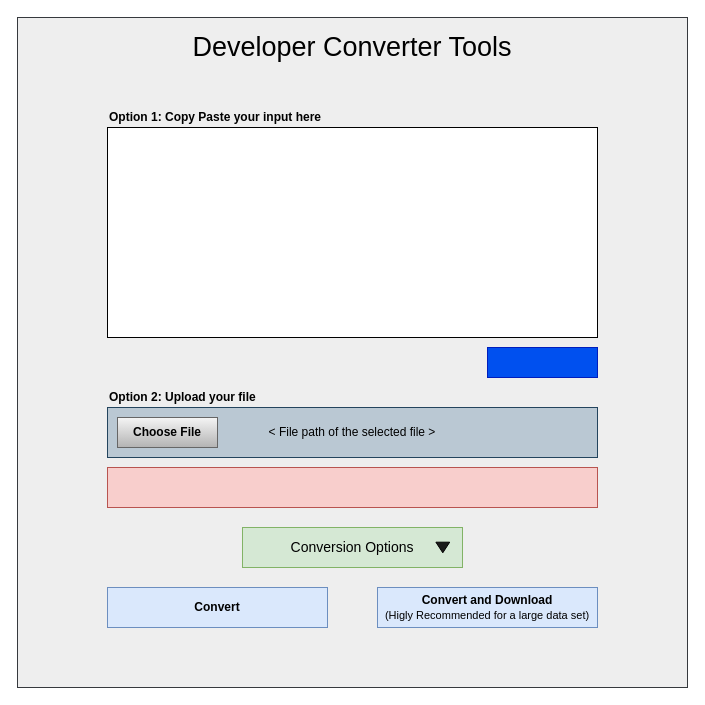
This 705x705 diagram has some shape labels left out. The centre of each missing label's shape, as x and y in pixels:
"< Validation messages >" belongs at point (352, 487).
"Copy to Clipboard" belongs at point (542, 362).
